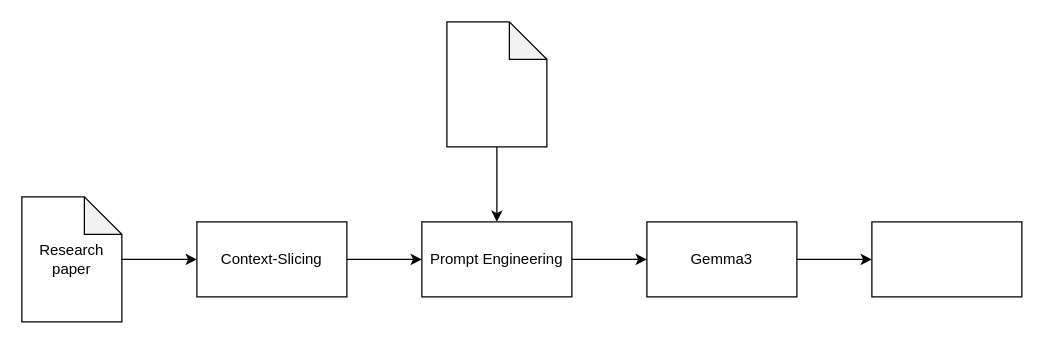
Image size: 1044x344. Some labels were removed from this diagram. Each missing label, with the box of its shape:
Checklist: (446, 21, 547, 147)
Evaluation: (871, 221, 1022, 297)
